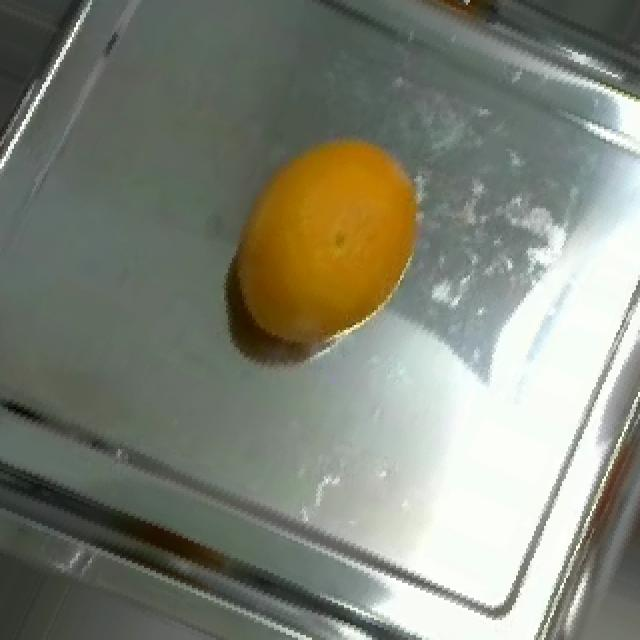Fruit: (210, 117, 442, 372)
